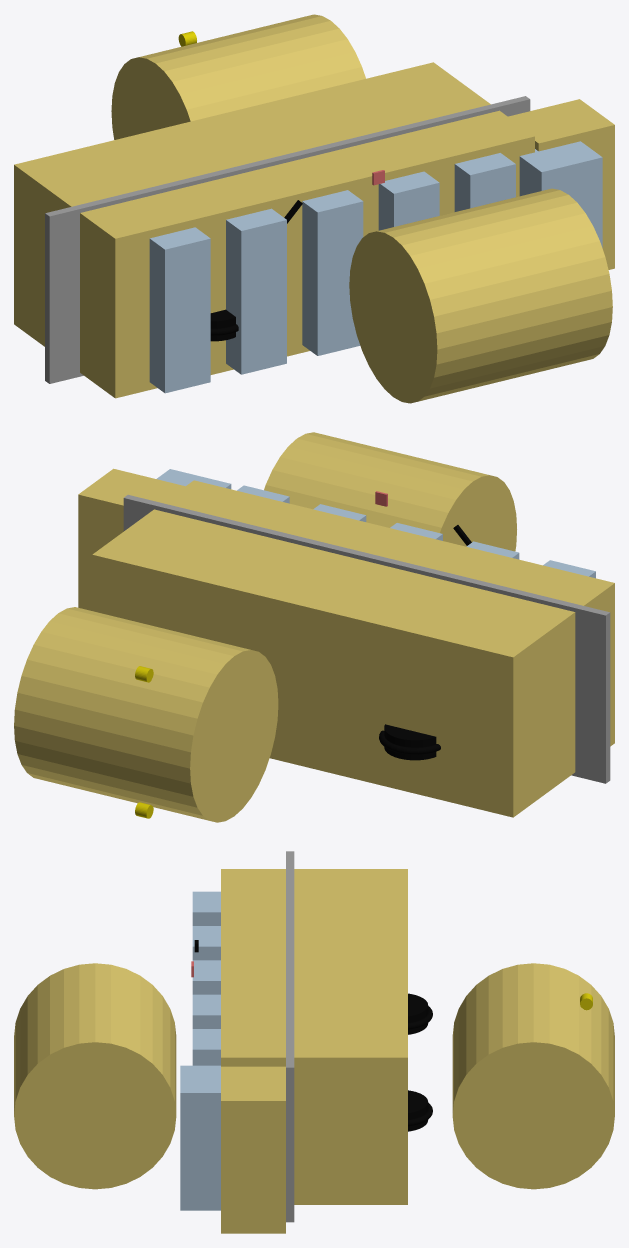
Rendered from school_bus.glb.
3 views of the same model, one above another, from view 1: azimuth 30°, elevation 25°; view 2: azimuth 150°, elevation 25°; view 3: azimuth 270°, elevation 25° (orthographic). The views are drawn at different scales.
Parts seen in each view (by area): view 1: geometry_0, geometry_1, geometry_3, geometry_2; view 2: geometry_0, geometry_3, geometry_1, geometry_2; view 3: geometry_0, geometry_1, geometry_3, geometry_2.
Part boxes in pixels (box(x1,y1,x2,y2)): geometry_0: box(14, 14, 614, 403); geometry_1: box(149, 141, 602, 393); geometry_3: box(45, 96, 530, 383); geometry_2: box(210, 309, 238, 341); geometry_0: box(14, 432, 614, 822); geometry_3: box(123, 494, 610, 783); geometry_1: box(157, 469, 595, 578); geometry_2: box(379, 724, 440, 760); geometry_0: box(14, 869, 614, 1233); geometry_1: box(180, 891, 220, 1210); geometry_3: box(286, 851, 294, 1222); geometry_2: box(408, 993, 432, 1131).
Bounding box in the file's own units: 6.95 × 2.27 × 7.4.
